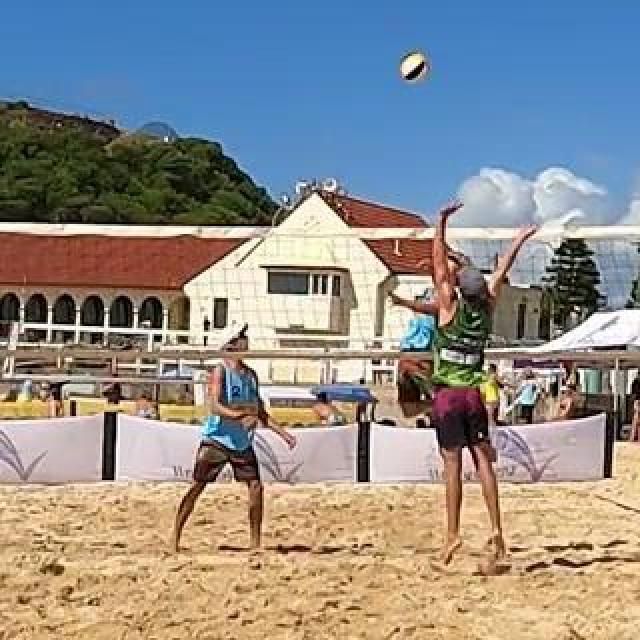volleyball: (401, 55, 429, 83)
